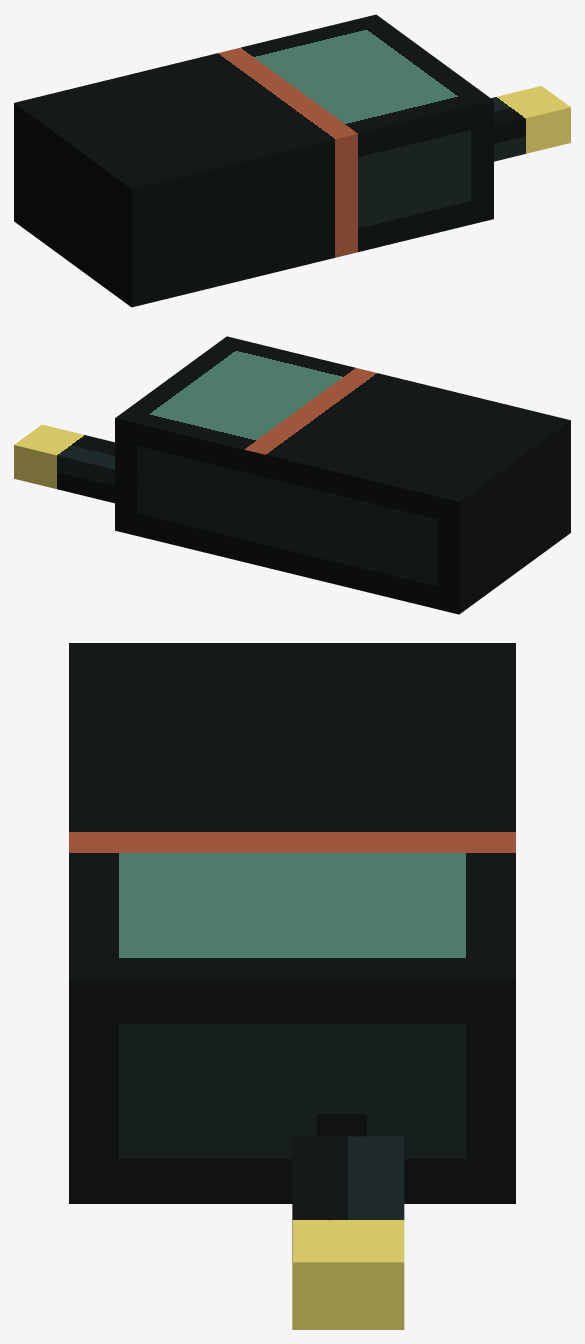
The model's file is radio.fbx.
The picture shows the model from 3 angles, top to bottom: view 1: azimuth 30°, elevation 25°; view 2: azimuth 150°, elevation 25°; view 3: azimuth 270°, elevation 25°; orthographic projection. The views are drawn at different scales.
Visible parts, largest first — view 1: mesh; view 2: mesh; view 3: mesh.
Part boxes in pixels (x1=…): mesh: x1=14, y1=14, x2=570, y2=307; mesh: x1=14, y1=336, x2=570, y2=614; mesh: x1=69, y1=643, x2=515, y2=1329.
Bounding box in the file's own units: 138 × 31.25 × 56.25.
Materials: 1 (1 with a texture image).
